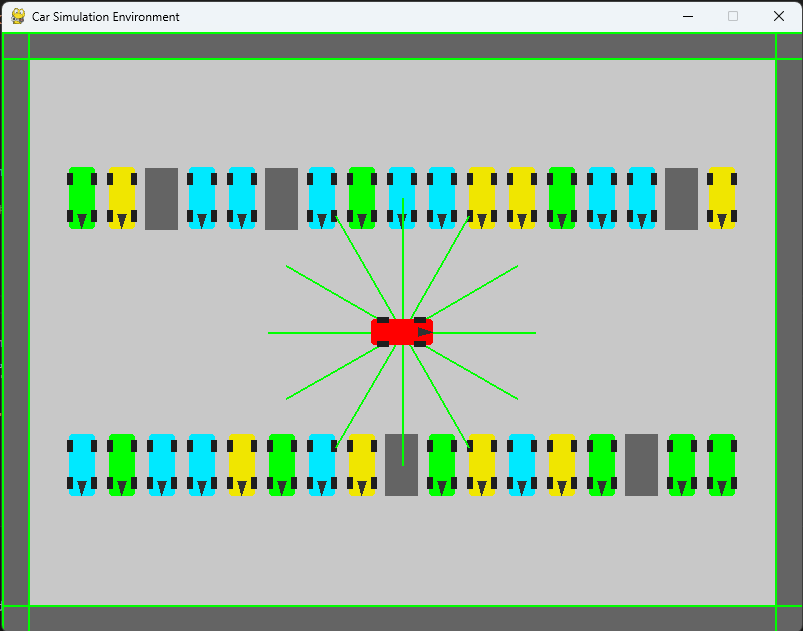ControlledCar: (362, 308, 442, 356)
ParkedCar: (583, 161, 623, 234), (261, 429, 300, 501), (661, 432, 701, 501), (703, 429, 742, 499), (144, 433, 182, 502), (224, 161, 260, 232), (583, 433, 619, 503), (183, 163, 220, 230), (385, 161, 419, 233), (62, 165, 99, 231), (345, 159, 377, 235), (466, 431, 501, 499), (305, 165, 341, 231), (225, 425, 258, 497), (504, 162, 538, 231), (504, 431, 540, 496), (426, 429, 461, 495), (465, 161, 498, 230), (66, 429, 99, 498), (105, 165, 140, 230), (707, 163, 740, 231), (345, 433, 380, 497), (104, 430, 136, 499), (544, 167, 578, 231), (307, 429, 338, 499), (185, 432, 216, 500), (627, 165, 658, 232), (428, 166, 459, 230), (547, 436, 577, 495)
ParkingSpot: (657, 163, 702, 236), (260, 162, 301, 234), (620, 429, 660, 498), (141, 165, 180, 234), (382, 429, 419, 501)
